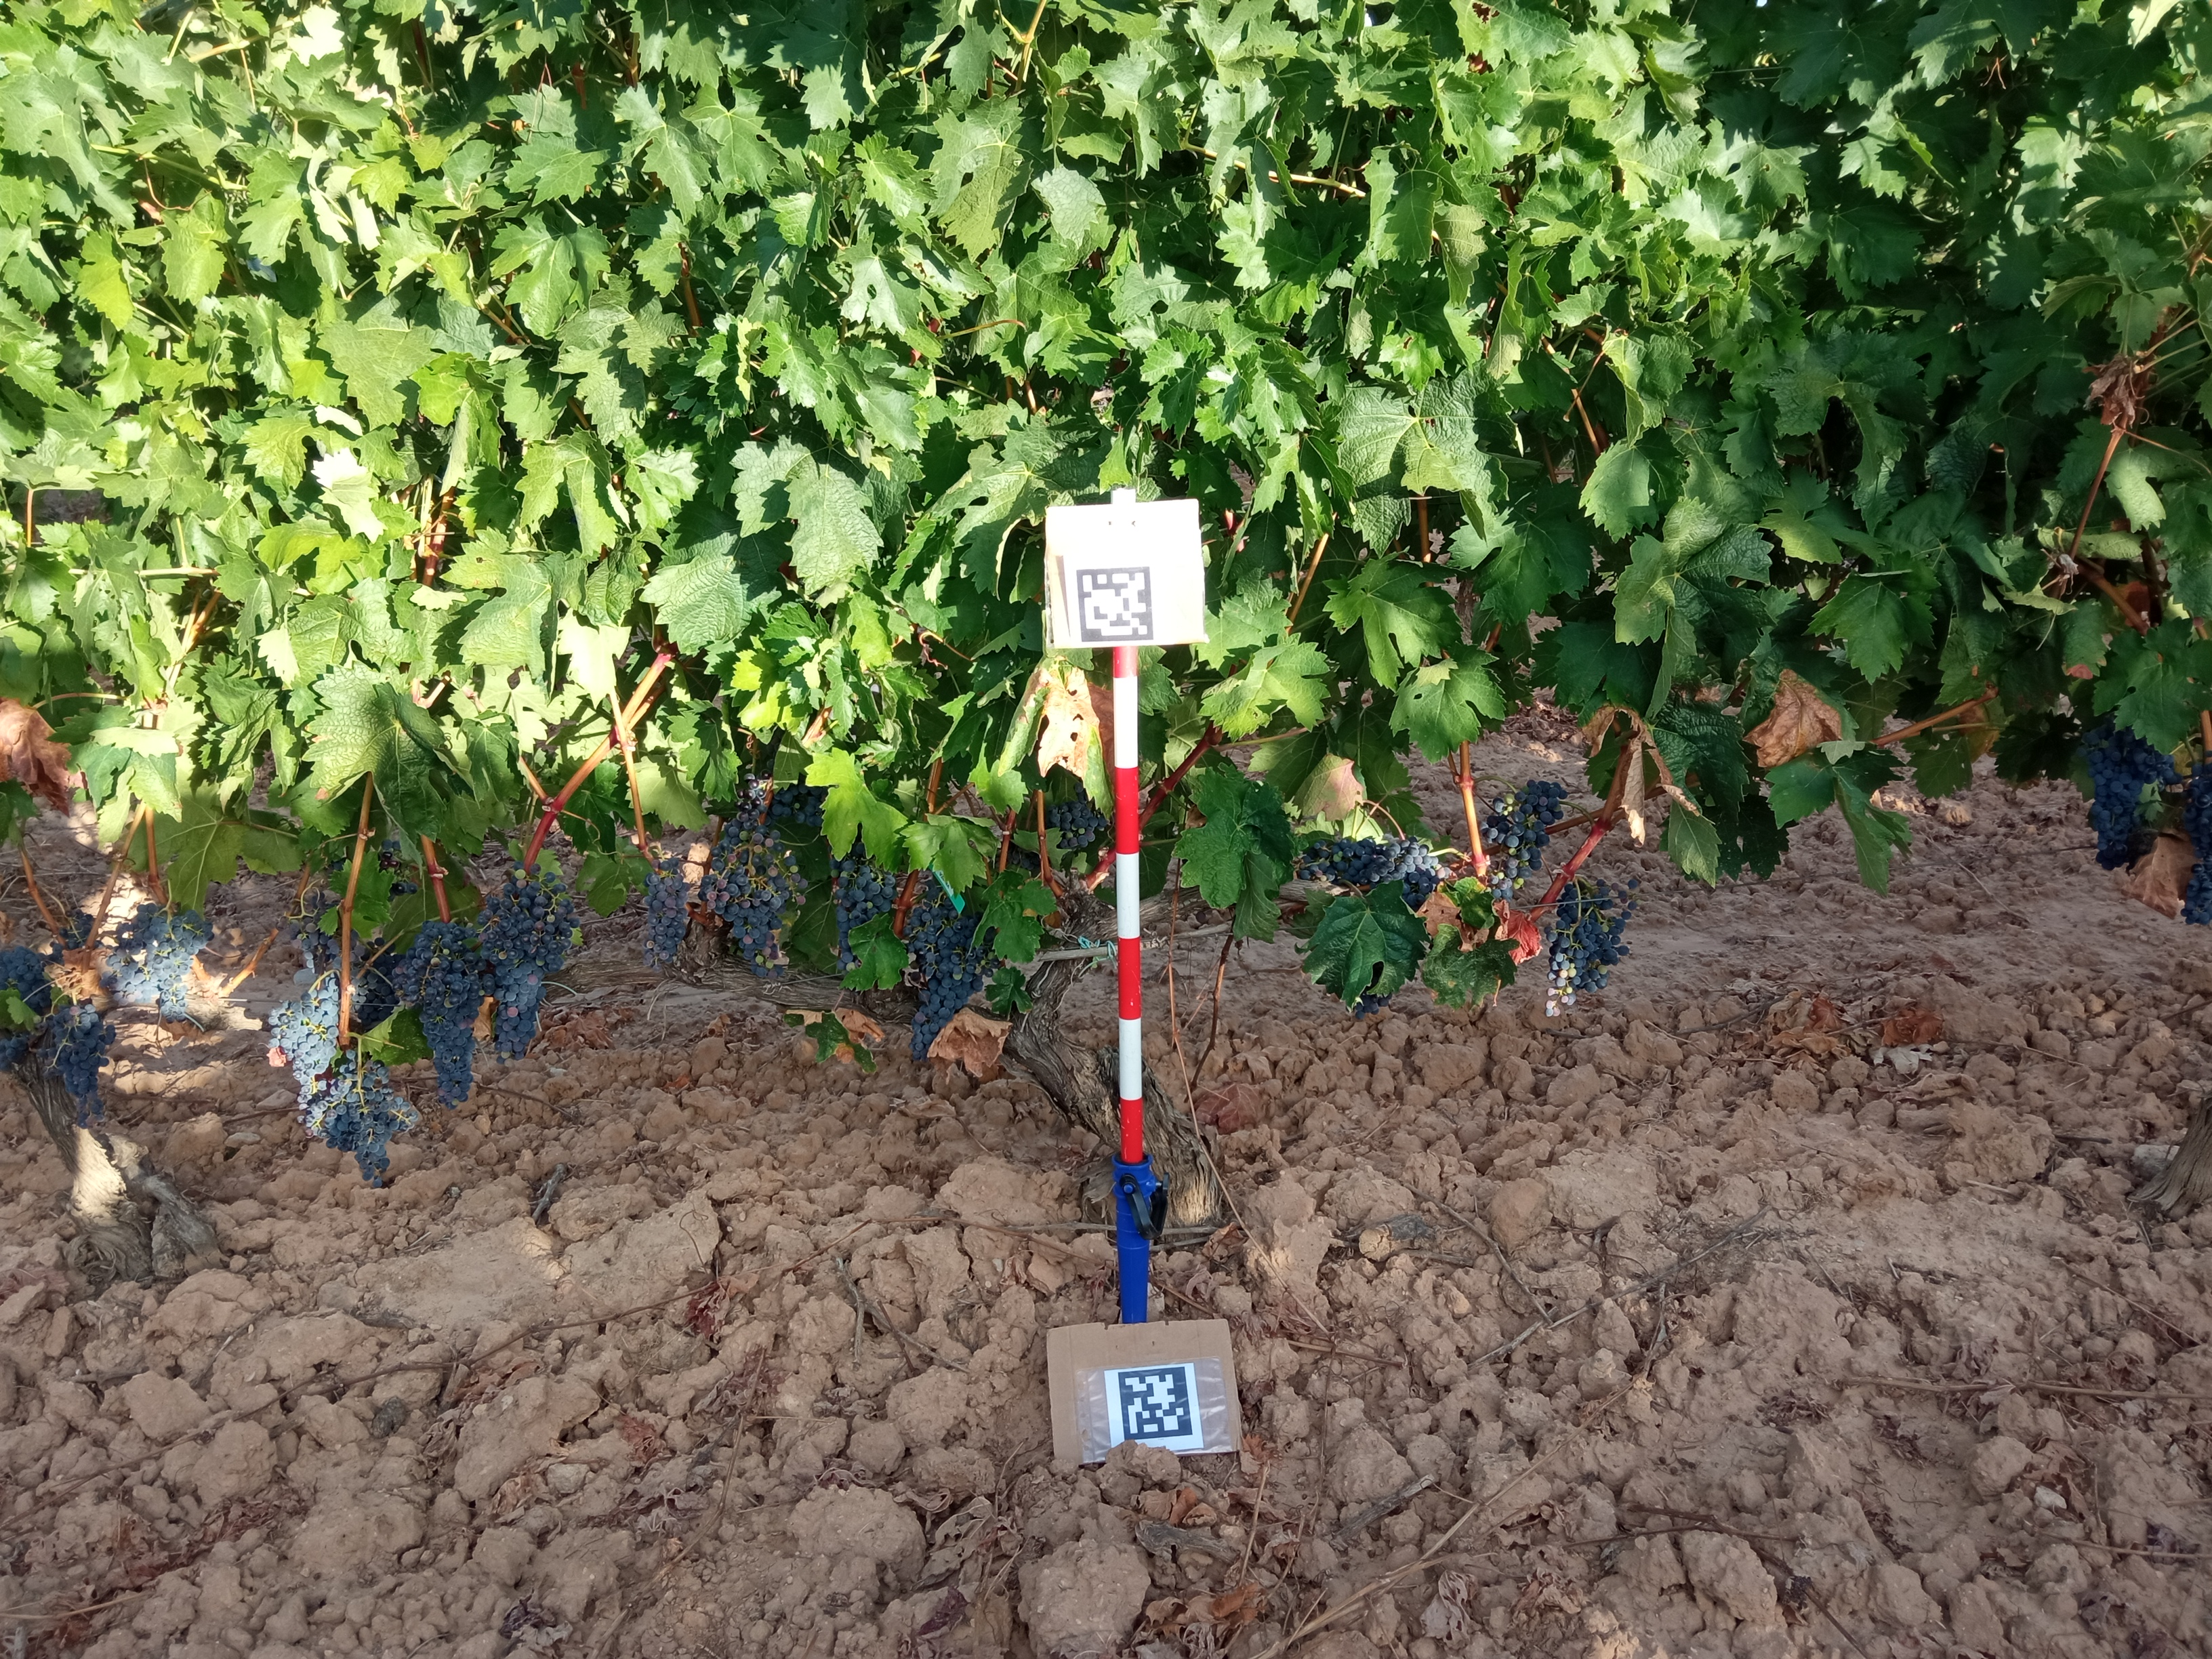grapes: (697, 770, 808, 979), (481, 863, 578, 1065), (392, 920, 484, 1108), (902, 889, 1000, 1063), (298, 1049, 418, 1187), (2078, 730, 2181, 870), (99, 903, 214, 1023), (1545, 878, 1635, 1016), (1299, 836, 1451, 906), (1480, 779, 1566, 899), (37, 1004, 115, 1129), (831, 843, 899, 972), (268, 993, 340, 1112), (643, 857, 690, 972), (277, 892, 341, 974), (2181, 763, 2212, 924), (350, 938, 406, 1025), (0, 946, 51, 1011), (1049, 802, 1106, 849), (773, 784, 829, 826), (381, 840, 418, 894), (61, 910, 92, 948), (1355, 992, 1392, 1021), (0, 1037, 28, 1070), (1007, 852, 1038, 870), (40, 943, 63, 965)
